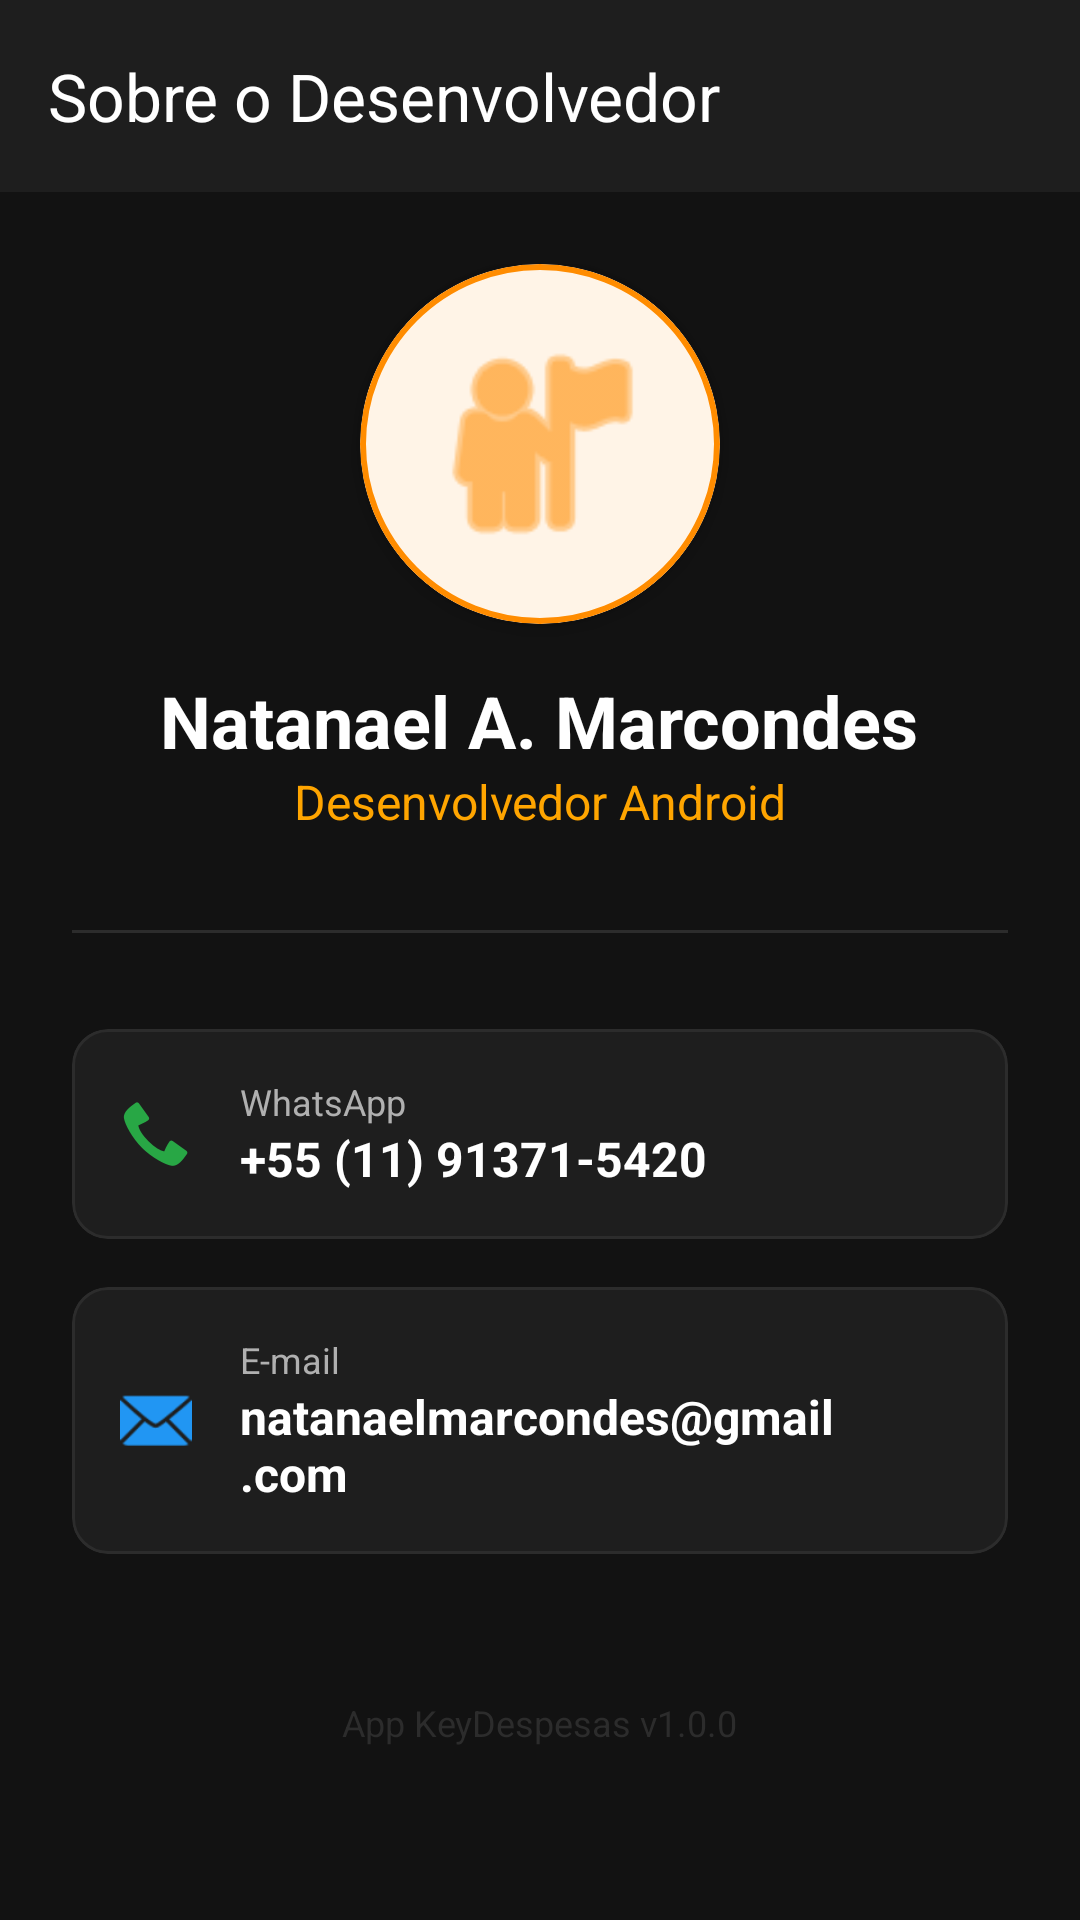

Point at icon controls on the screen. Image size 1080 × 1920, points as point (x, y).
phone call: point (156, 1134)
